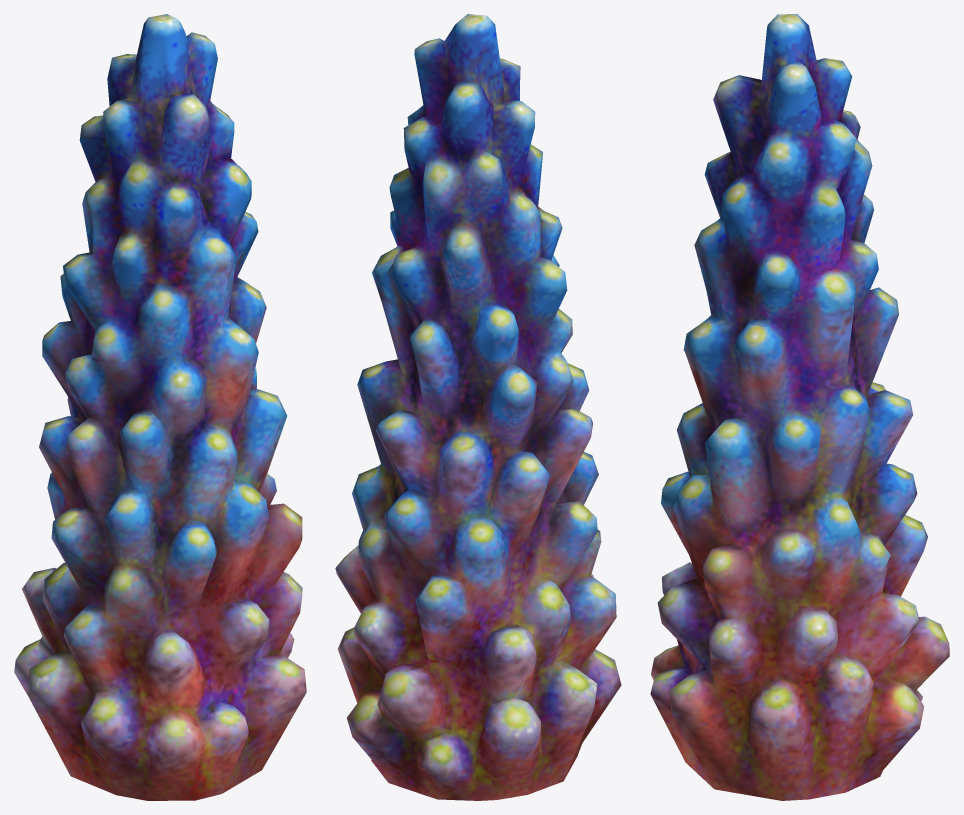
The model's file is Coral V6.fbx.
3 views of the same model, side by side, from view 1: azimuth 30°, elevation 25°; view 2: azimuth 150°, elevation 25°; view 3: azimuth 270°, elevation 25° (orthographic).
Parts seen in each view (by area): view 1: Coral V6; view 2: Coral V6; view 3: Coral V6.
Part boxes in pixels (x1,y1,x2,y2): Coral V6: (14, 14, 306, 800); Coral V6: (335, 14, 621, 800); Coral V6: (650, 14, 949, 800).
Bounding box in the file's own units: 17.78 × 49.84 × 18.21.
